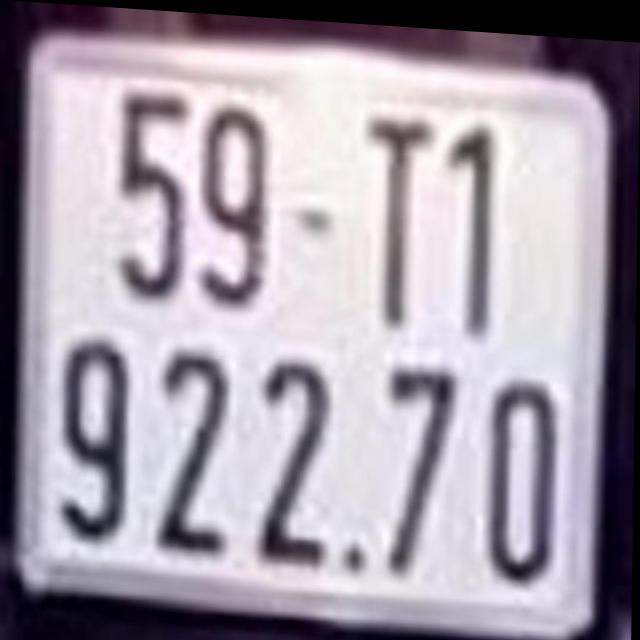0: (488, 368, 561, 578)
1: (447, 115, 502, 329)
2: (158, 347, 237, 557), (258, 347, 334, 562)
5: (119, 85, 190, 290)
7: (386, 357, 461, 577)
9: (202, 94, 277, 302), (62, 337, 131, 543)
T: (357, 106, 442, 330)
